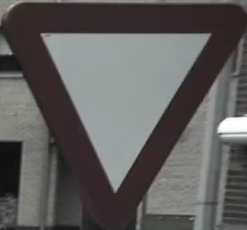Give way: (2, 3, 242, 227)
